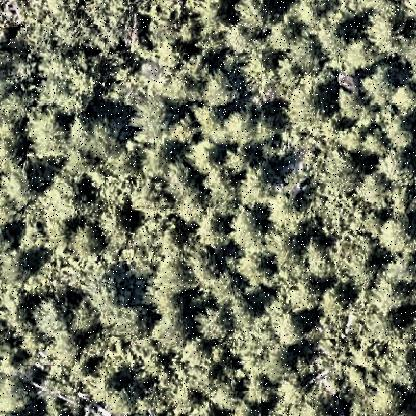tree-top: (45, 63, 101, 111), (25, 109, 71, 161), (317, 148, 365, 196), (79, 114, 127, 160), (332, 232, 382, 276), (132, 93, 176, 139), (288, 78, 330, 124), (194, 304, 238, 346), (362, 8, 404, 50), (33, 295, 72, 338), (375, 214, 415, 254), (200, 67, 240, 107), (360, 63, 400, 103), (269, 308, 309, 348), (365, 379, 408, 416), (370, 277, 411, 315), (285, 277, 325, 315), (98, 200, 136, 239), (223, 107, 260, 147), (98, 356, 141, 390), (286, 35, 324, 73), (194, 212, 232, 250), (153, 313, 191, 351), (4, 165, 40, 205), (301, 234, 336, 275), (151, 259, 189, 296), (340, 35, 378, 72), (231, 206, 267, 245), (379, 114, 415, 152), (237, 167, 273, 205), (69, 223, 107, 259), (355, 171, 393, 207), (188, 139, 226, 175), (1, 375, 34, 416), (320, 283, 355, 321), (376, 148, 412, 184), (266, 194, 302, 230), (47, 331, 84, 365), (163, 161, 197, 198), (2, 115, 24, 171), (189, 249, 225, 283), (67, 298, 99, 336), (234, 1, 272, 31), (197, 1, 235, 31), (14, 218, 46, 252), (268, 19, 300, 53), (138, 147, 170, 180), (43, 215, 73, 250), (201, 167, 234, 197), (243, 374, 273, 406), (291, 1, 327, 27), (362, 128, 393, 158), (223, 148, 253, 178), (175, 384, 203, 416), (392, 83, 416, 115), (175, 20, 199, 46)
